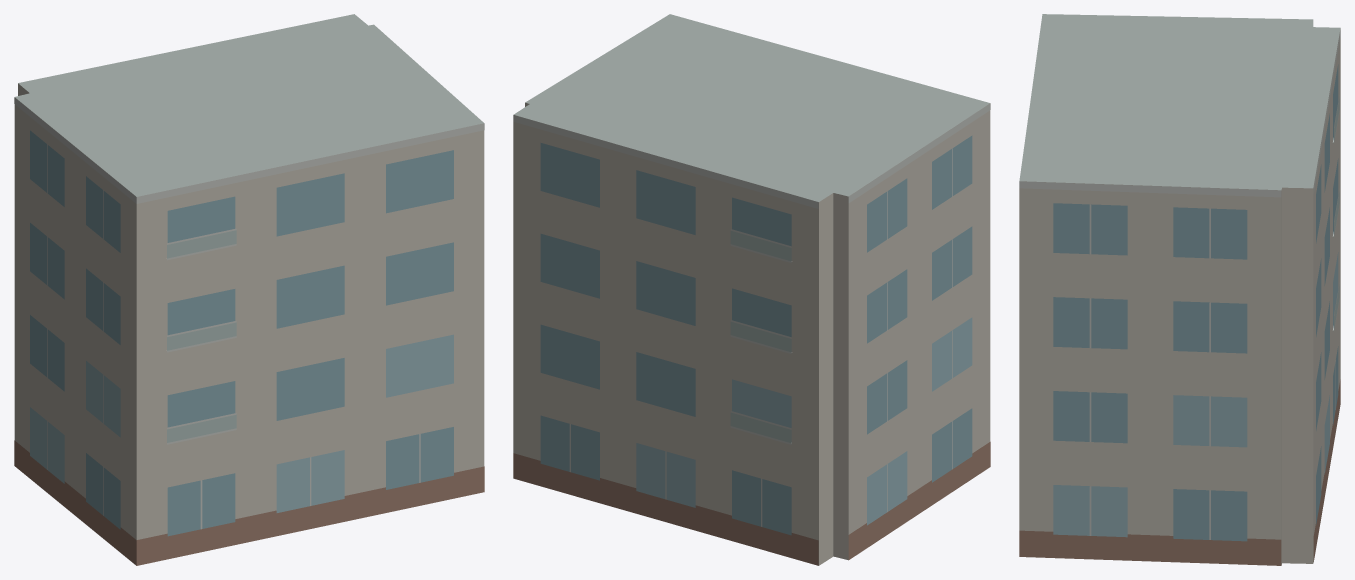
Rendered from survey-upis-32664714.glb.
3 views of the same model, side by side, from view 1: azimuth 30°, elevation 25°; view 2: azimuth 150°, elevation 25°; view 3: azimuth 270°, elevation 25° (orthographic). The views are drawn at different scales.
Visible parts, largest first — view 1: survey-upis-32664714.tmp; view 2: survey-upis-32664714.tmp; view 3: survey-upis-32664714.tmp.
Boxes of the visible parts, <box> form: survey-upis-32664714.tmp: <box>14,14,484,565</box>; survey-upis-32664714.tmp: <box>513,14,990,565</box>; survey-upis-32664714.tmp: <box>1019,14,1340,565</box>.
Size of the model in its own units: 12.89 by 12.8 by 9.93.
